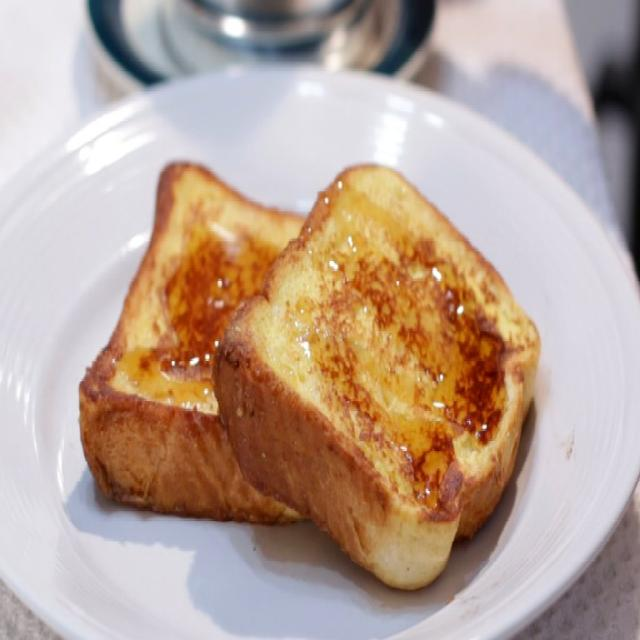Bread: (214, 164, 540, 589), (80, 162, 304, 523)
